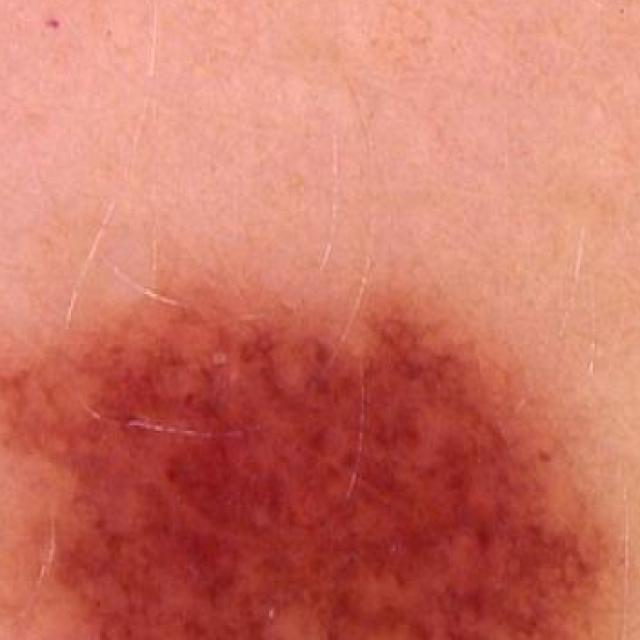NV: (0, 264, 622, 640)
